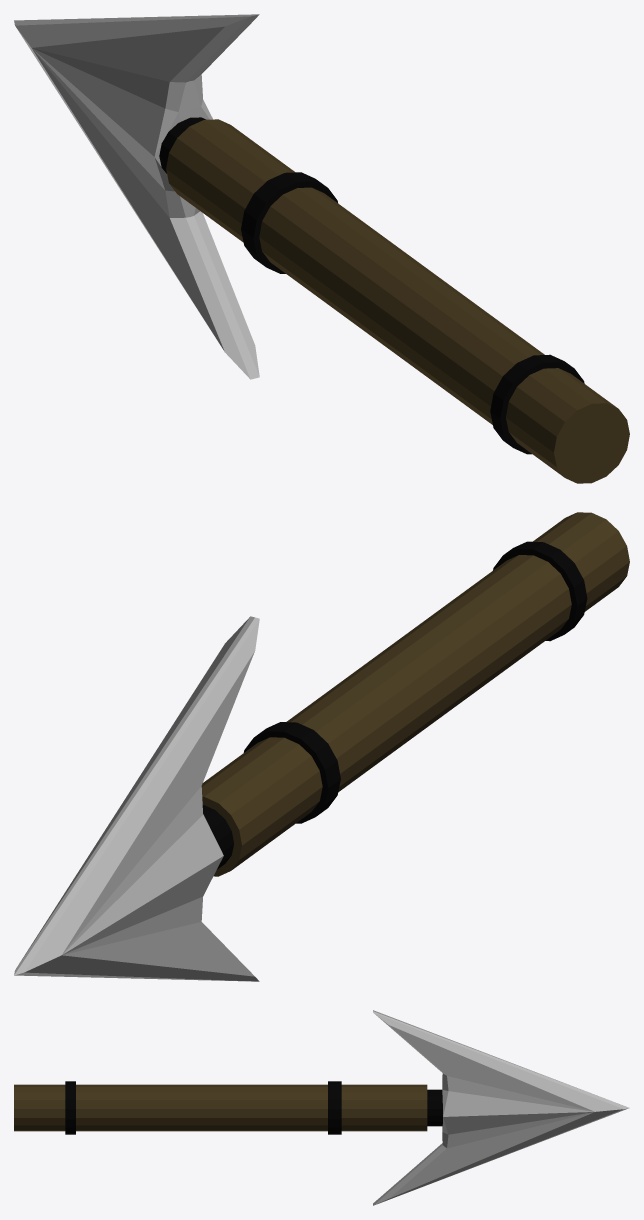
File: Tugboat Harpoon.fbx
3 renders of one model, top to bottom at view 1: azimuth 30°, elevation 25°; view 2: azimuth 150°, elevation 25°; view 3: azimuth 270°, elevation 25°, orthographic. The views are drawn at different scales.
Parts seen in each view (by area): view 1: Harpoon; view 2: Harpoon; view 3: Harpoon.
Boxes of the visible parts, x1,y1,x2,y2 form: Harpoon: [14, 14, 629, 483]; Harpoon: [14, 512, 629, 981]; Harpoon: [14, 1010, 629, 1205].
Bounding box in the file's own units: 17.63 × 69.93 × 202.
